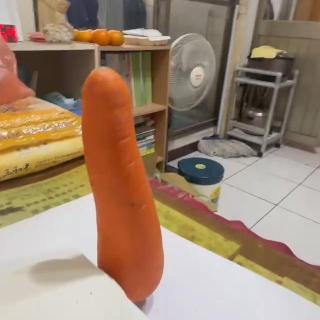carrot: (81, 65, 165, 303)
